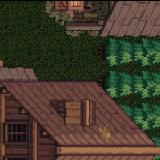Obstacle: (0, 37, 160, 160), (42, 0, 160, 37)
